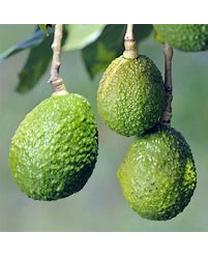avocado: (8, 92, 100, 203), (115, 124, 201, 223), (97, 52, 169, 136)
